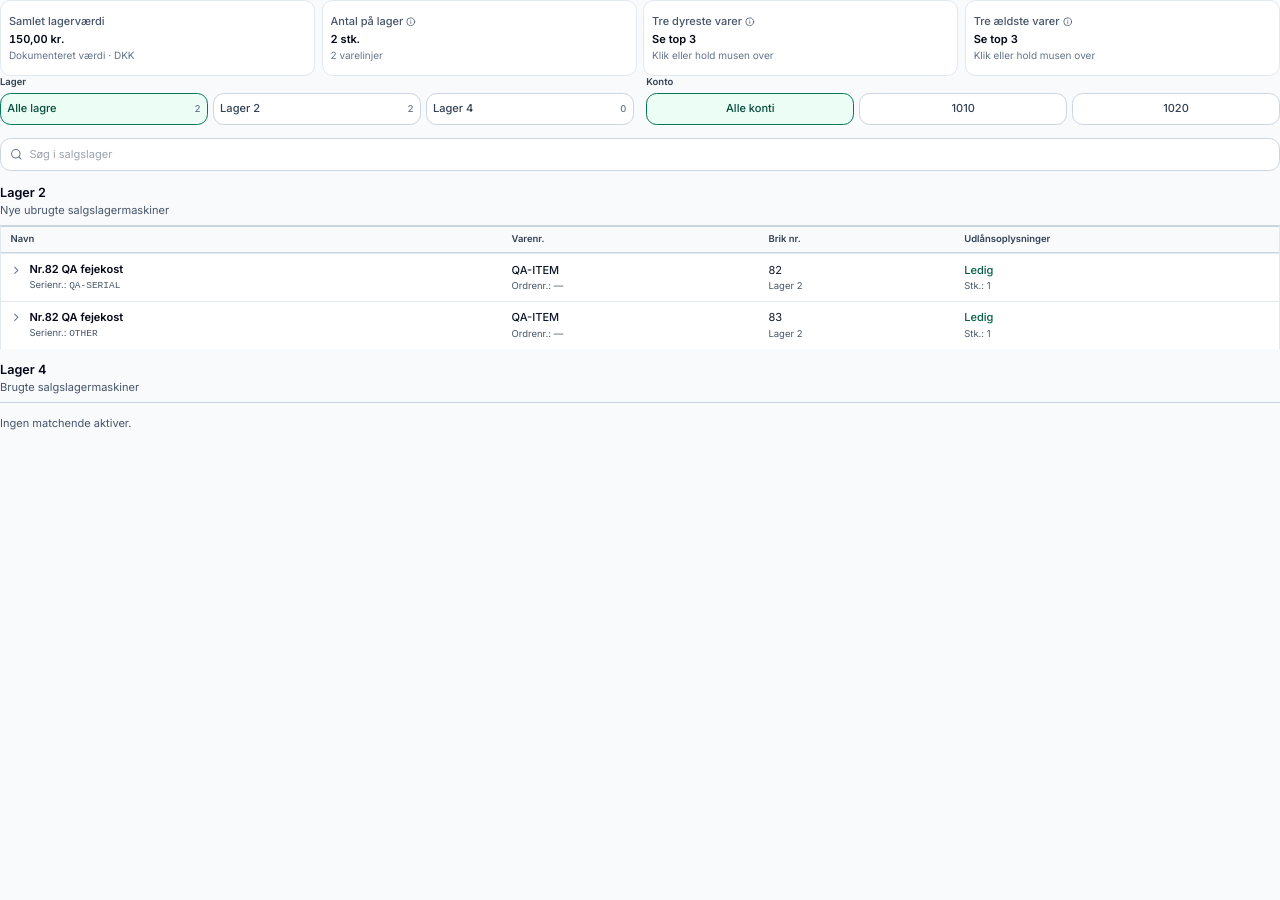
Test: single Fabric stock dataset › opens top-three information with pointer/click and finds the original row without selecting or mutating it
Hover over the button "Tre dyreste varer": (697, 21) x1=643 y1=0 x2=958 y2=76
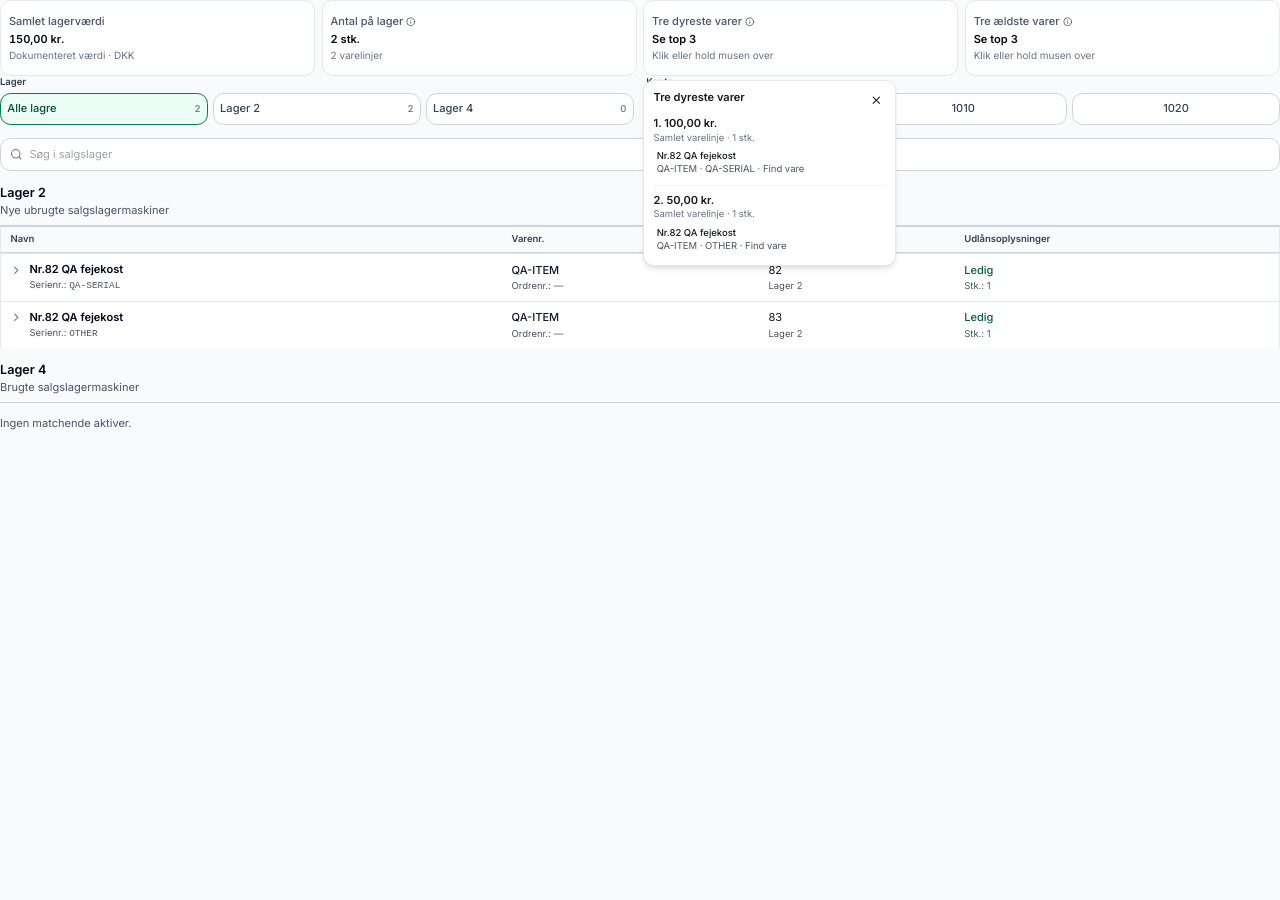
Check: the dialog "Tre dyreste varer" shows "100,00 kr.", box x1=664 y1=116 x2=717 y2=130
Check: the dialog "Tre dyreste varer" shows "QA-ITEM"
Check: the dialog "Tre dyreste varer" shows "Samlet varelinje", box x1=643 y1=80 x2=896 y2=266
Click the button "Nr.82 QA fejekost QA-ITEM · QA-SERIAL · Find vare": click(769, 163) x1=654 y1=147 x2=885 y2=179
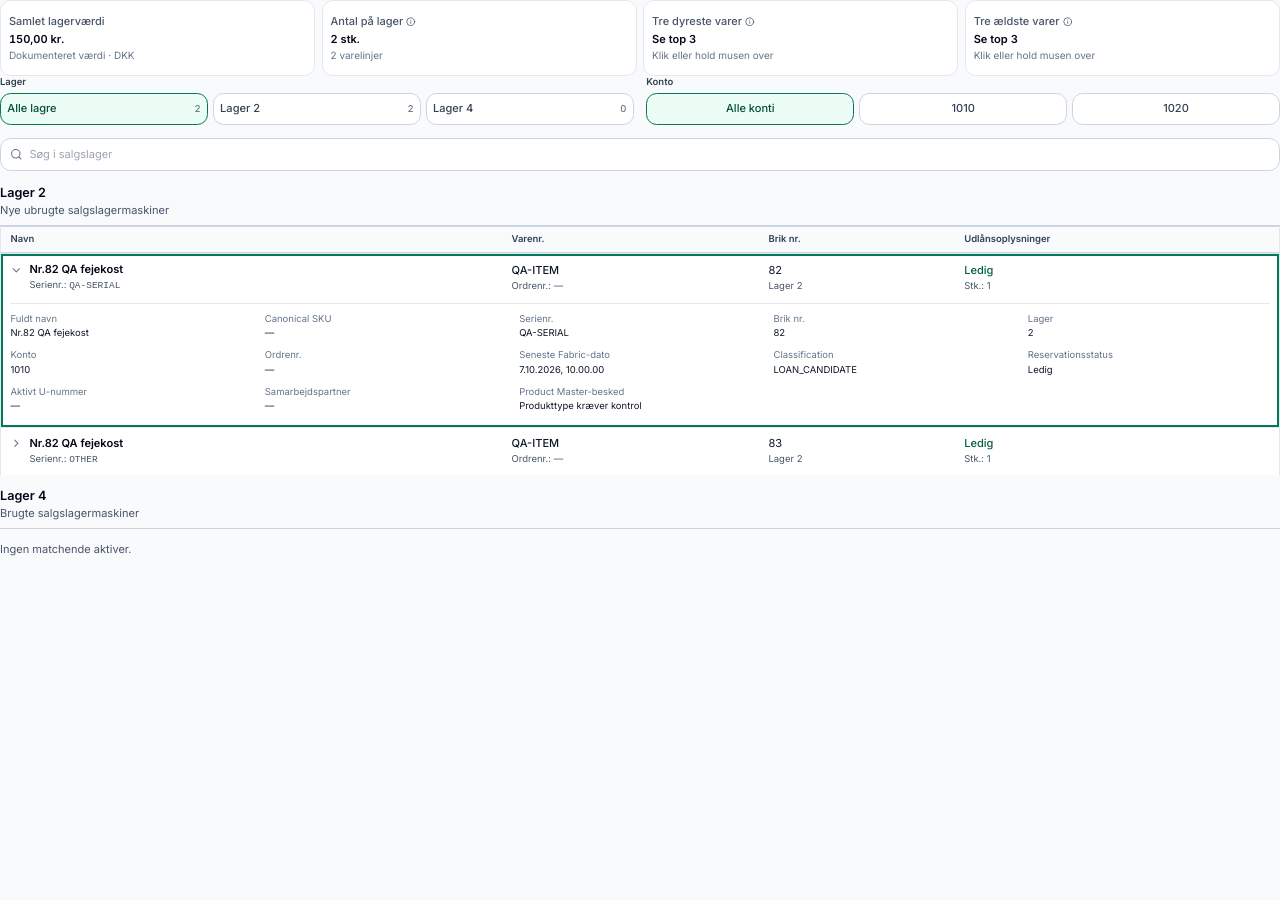
Check: the dialog is gone
